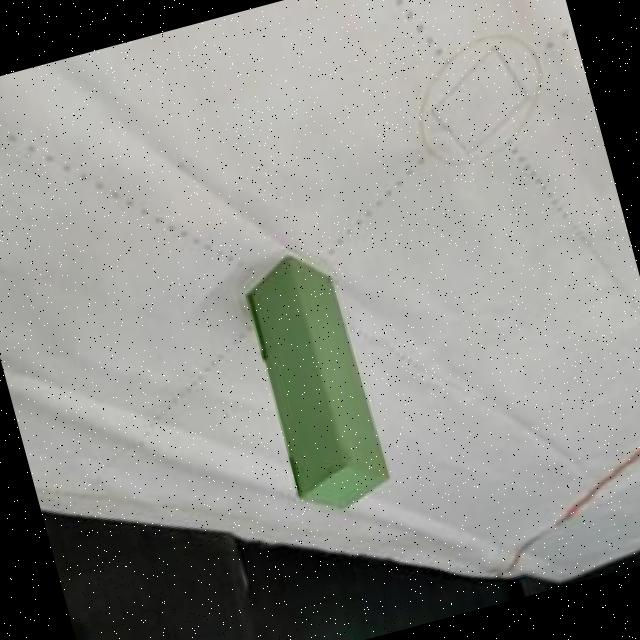greenbox: (238, 246, 394, 515)
